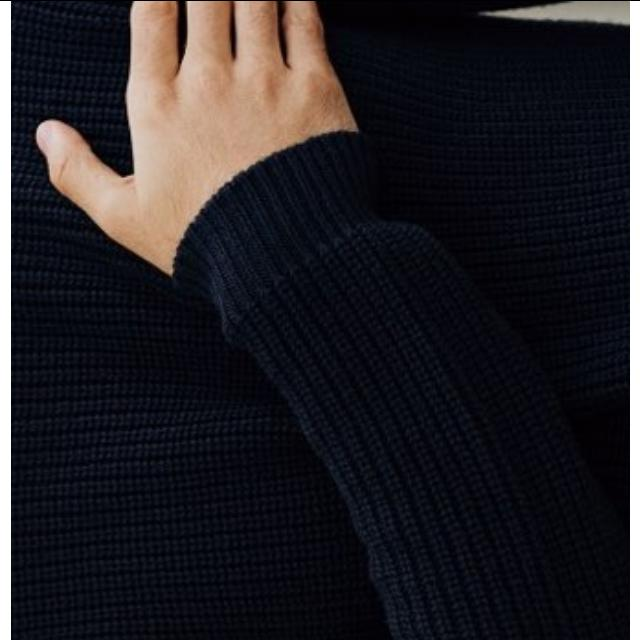wool: (11, 0, 630, 640)
